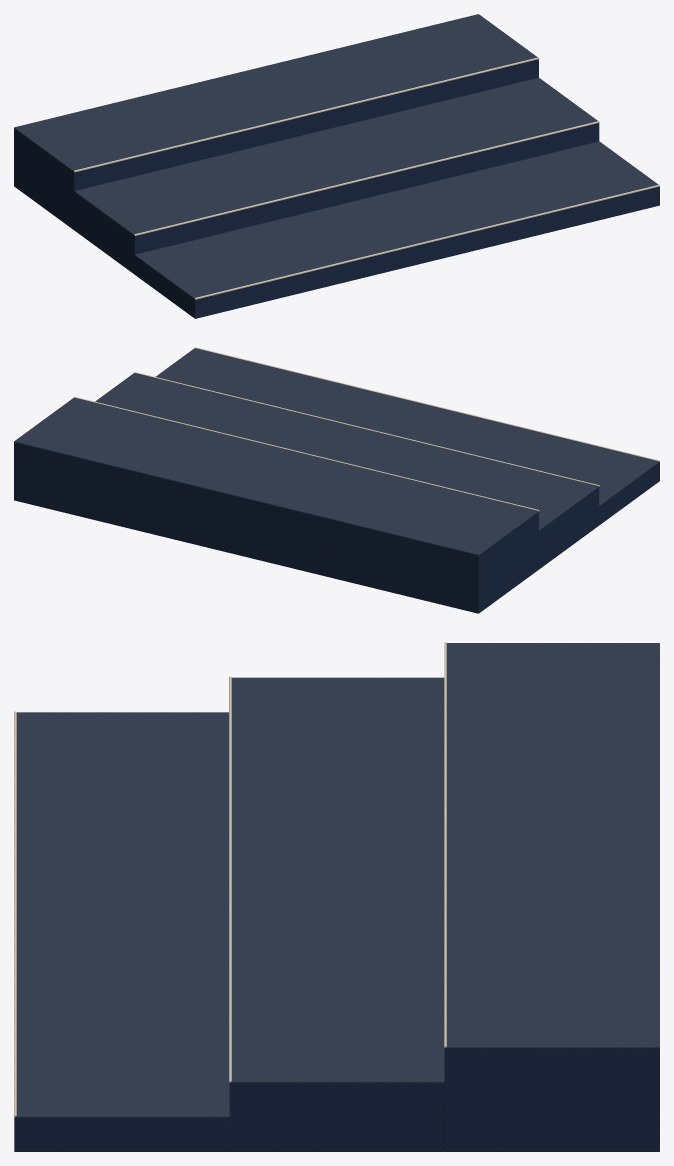
Rendered from 23_seating_terrace.glb.
3 renders of one model, top to bottom at view 1: azimuth 30°, elevation 25°; view 2: azimuth 150°, elevation 25°; view 3: azimuth 270°, elevation 25°, orthographic. The views are drawn at different scales.
Parts seen in each view (by area): view 1: 23_seating_terrace__carpet_surface, 23_seating_terrace__carpet_surface.002, 23_seating_terrace__carpet_surface.001, 23_seating_terrace__solid_terrace.002, 23_seating_terrace__solid_terrace.001, 23_seating_terrace__solid_terrace, 23_seating_terrace__edge_strip.002, 23_seating_terrace__edge_strip, 23_seating_terrace__edge_strip.001; view 2: 23_seating_terrace__solid_terrace.002, 23_seating_terrace__carpet_surface.002, 23_seating_terrace__carpet_surface, 23_seating_terrace__carpet_surface.001, 23_seating_terrace__solid_terrace.001, 23_seating_terrace__solid_terrace, 23_seating_terrace__edge_strip.001, 23_seating_terrace__edge_strip.002, 23_seating_terrace__edge_strip; view 3: 23_seating_terrace__carpet_surface.002, 23_seating_terrace__carpet_surface.001, 23_seating_terrace__carpet_surface, 23_seating_terrace__solid_terrace.002, 23_seating_terrace__solid_terrace.001, 23_seating_terrace__solid_terrace, 23_seating_terrace__edge_strip.001, 23_seating_terrace__edge_strip, 23_seating_terrace__edge_strip.002.
Part boxes in pixels (bbox=[...]): 23_seating_terrace__carpet_surface: bbox=[134, 141, 658, 299]; 23_seating_terrace__carpet_surface.002: bbox=[14, 14, 537, 171]; 23_seating_terrace__carpet_surface.001: bbox=[74, 78, 597, 235]; 23_seating_terrace__solid_terrace.002: bbox=[14, 59, 538, 229]; 23_seating_terrace__solid_terrace.001: bbox=[74, 123, 599, 274]; 23_seating_terrace__solid_terrace: bbox=[134, 186, 659, 318]; 23_seating_terrace__edge_strip.002: bbox=[74, 57, 539, 172]; 23_seating_terrace__edge_strip: bbox=[194, 184, 659, 299]; 23_seating_terrace__edge_strip.001: bbox=[134, 121, 599, 235]; 23_seating_terrace__solid_terrace.002: bbox=[14, 442, 538, 613]; 23_seating_terrace__carpet_surface.002: bbox=[14, 397, 538, 555]; 23_seating_terrace__carpet_surface: bbox=[155, 348, 659, 505]; 23_seating_terrace__carpet_surface.001: bbox=[95, 373, 598, 530]; 23_seating_terrace__solid_terrace.001: bbox=[539, 487, 599, 569]; 23_seating_terrace__solid_terrace: bbox=[599, 462, 659, 524]; 23_seating_terrace__edge_strip.001: bbox=[134, 372, 599, 486]; 23_seating_terrace__edge_strip.002: bbox=[74, 396, 539, 511]; 23_seating_terrace__edge_strip: bbox=[195, 347, 659, 461]; 23_seating_terrace__carpet_surface.002: bbox=[445, 643, 659, 1048]; 23_seating_terrace__carpet_surface.001: bbox=[230, 677, 444, 1082]; 23_seating_terrace__carpet_surface: bbox=[15, 712, 229, 1117]; 23_seating_terrace__solid_terrace.002: bbox=[444, 1048, 659, 1151]; 23_seating_terrace__solid_terrace.001: bbox=[229, 1083, 444, 1151]; 23_seating_terrace__solid_terrace: bbox=[14, 1117, 229, 1151]; 23_seating_terrace__edge_strip.001: bbox=[229, 676, 231, 1082]; 23_seating_terrace__edge_strip: bbox=[14, 711, 16, 1117]; 23_seating_terrace__edge_strip.002: bbox=[444, 642, 446, 1048].
Bounding box in the file's own units: 4 × 0.49 × 2.7.
3 materials, 3 textured.
